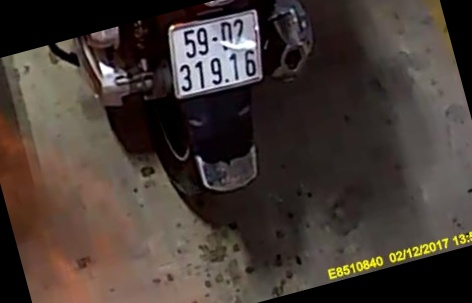plate: (163, 13, 268, 96)
